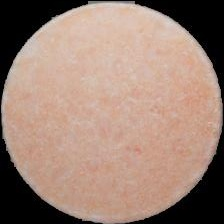0603-0024: (0, 0, 224, 224)
